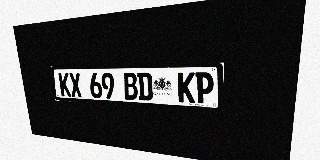6: (88, 73, 103, 98)
9: (101, 73, 115, 99)
B: (123, 72, 138, 100)
D: (137, 72, 153, 101)
K: (178, 72, 195, 103), (58, 73, 71, 97)
P: (195, 72, 214, 104)
X: (69, 73, 82, 97)
